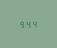four: (31, 19, 36, 27), (25, 20, 30, 27)
nine: (18, 20, 23, 28)
